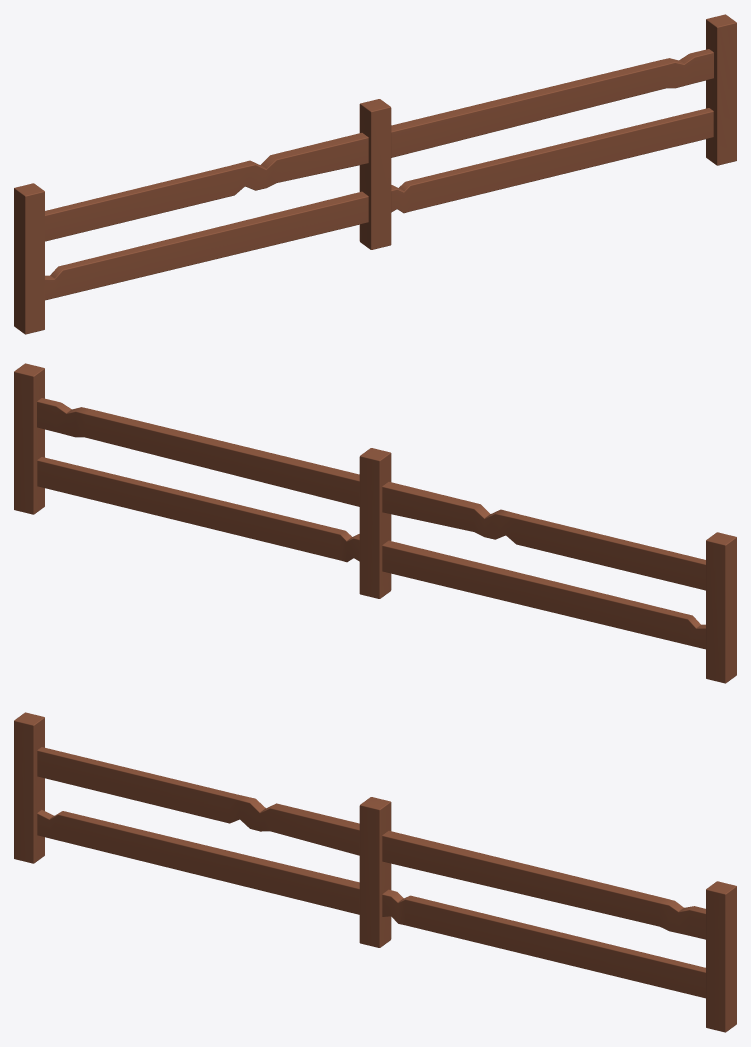
The model's file is Fence.glb.
3 renders of one model, top to bottom at view 1: azimuth 30°, elevation 25°; view 2: azimuth 150°, elevation 25°; view 3: azimuth 330°, elevation 25°, orthographic.
Parts seen in each view (by area): view 1: Fence; view 2: Fence; view 3: Fence.
Part boxes in pixels (box(x1,y1,x2,y2)): Fence: box(14, 14, 736, 334); Fence: box(14, 363, 736, 683); Fence: box(14, 712, 736, 1032).
Bounding box in the file's own units: 5.89 × 1.1 × 0.1655.
